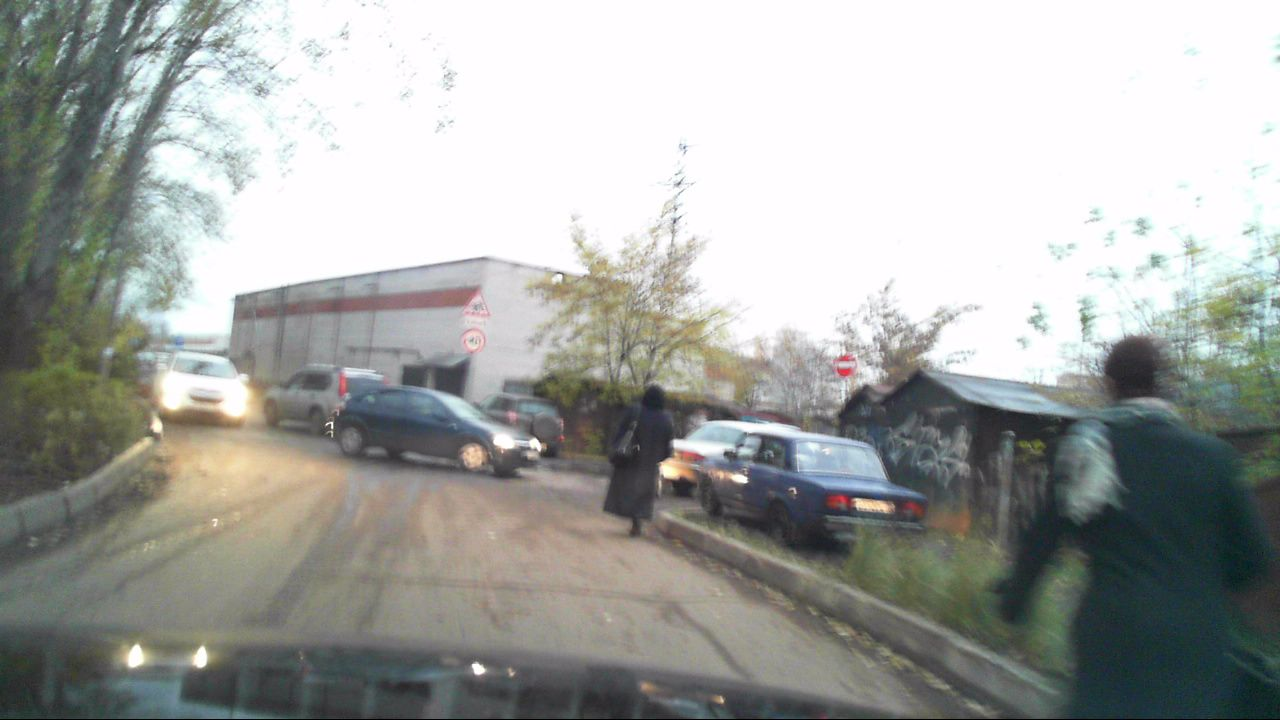speed_warning_40: (461, 330, 485, 351)
